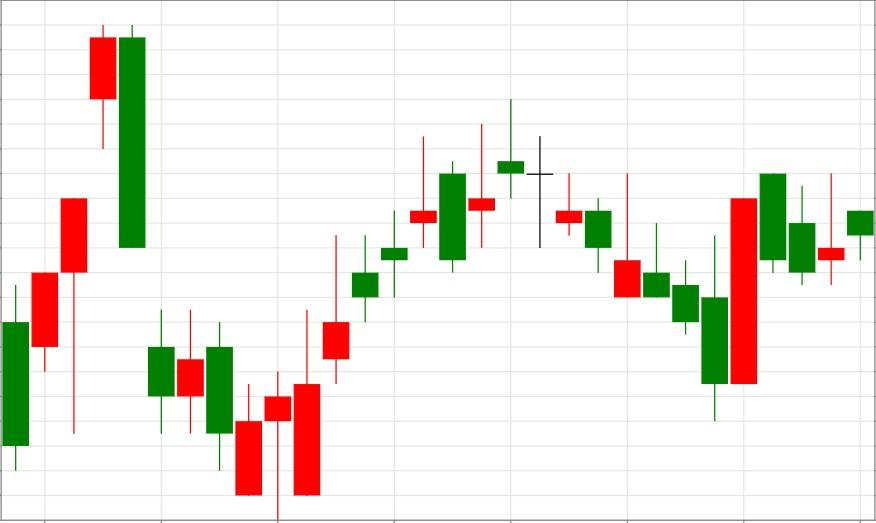bearish_engulfing_fall: (2, 24, 147, 471)
